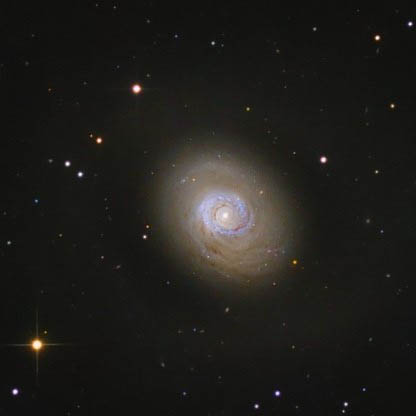Messier 94: (106, 102, 350, 343)
